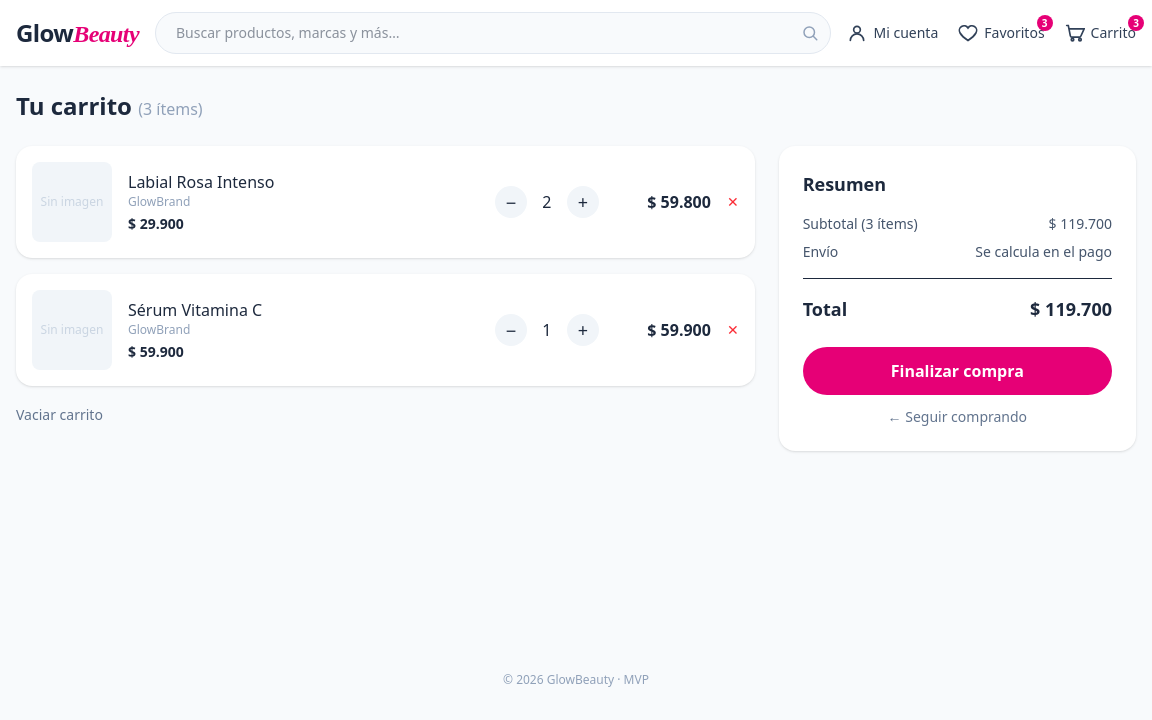
Scenario: CartPage – carrito con ítems › Vaciar carrito elimina todos los ítems y muestra estado vacío
Click the button "Vaciar carrito" at point(59, 415), box [16,405,103,425]
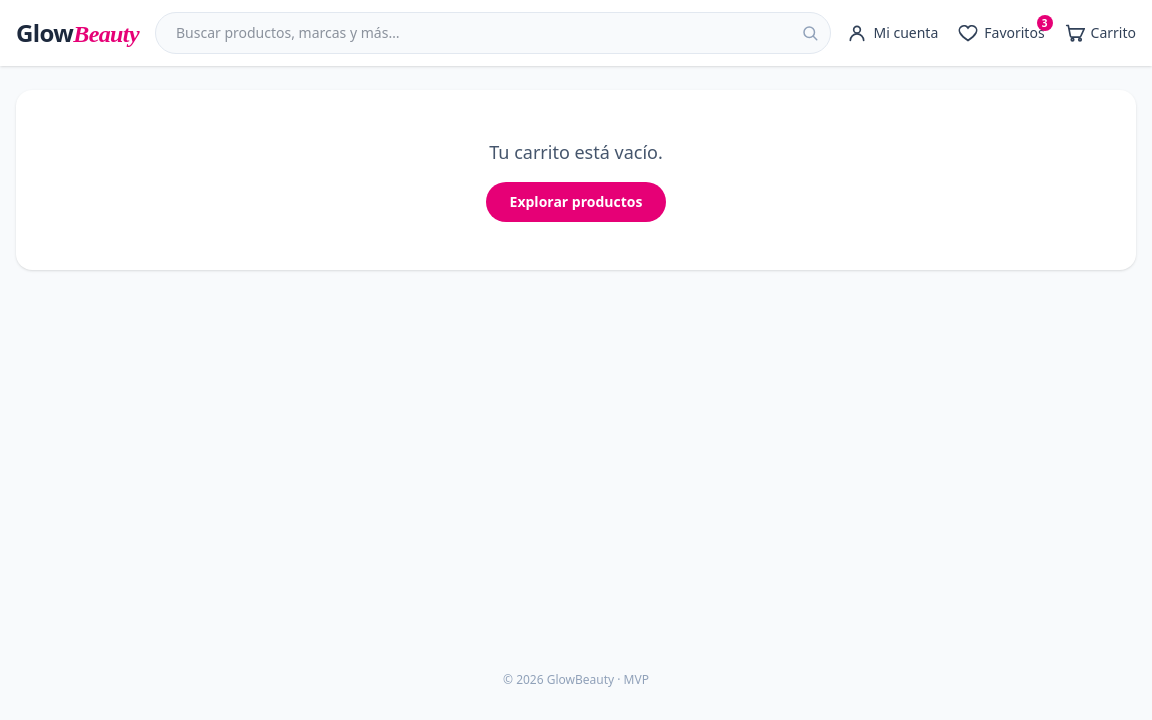
Expected: the text "Tu carrito está vacío." is shown, [489,140,663,164]
